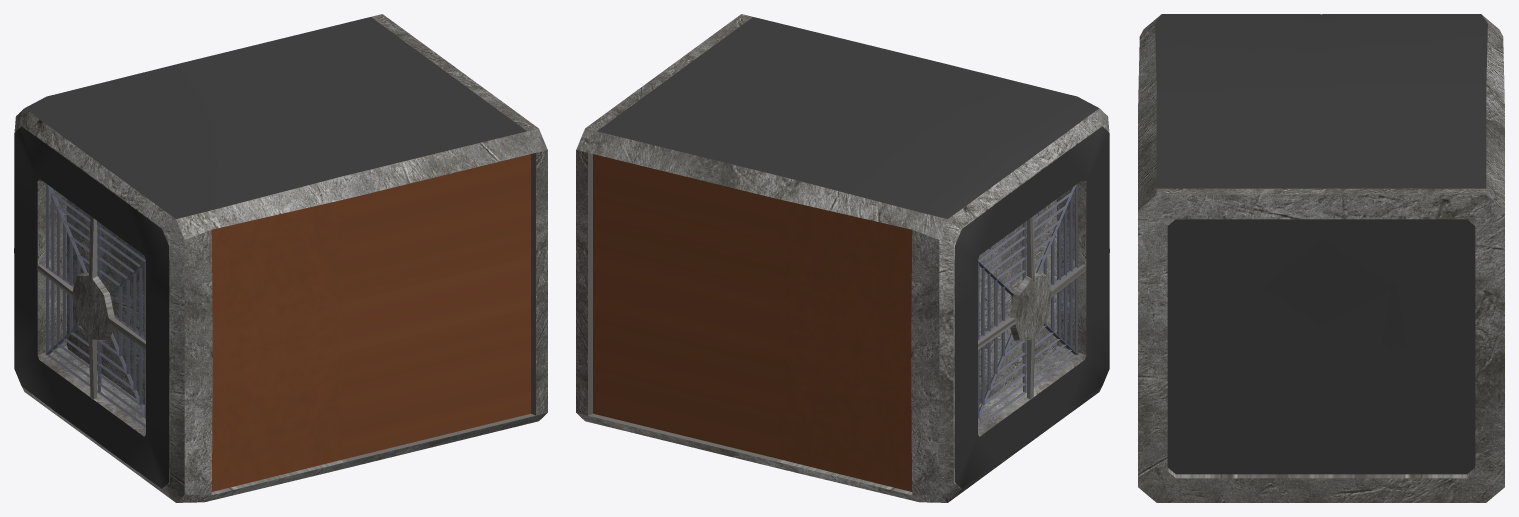
The model's file is Fonte 1.fbx.
3 views of the same model, side by side, from view 1: azimuth 30°, elevation 25°; view 2: azimuth 150°, elevation 25°; view 3: azimuth 270°, elevation 25° (orthographic). The views are drawn at different scales.
Visible parts, largest first — view 1: Fonte; view 2: Fonte; view 3: Fonte.
Boxes of the visible parts, x1,y1,x2,y2 form: Fonte: (14, 14, 547, 502); Fonte: (576, 14, 1109, 502); Fonte: (1138, 14, 1504, 502).
Size of the model in its own units: 21.92 by 16.57 by 17.86.
